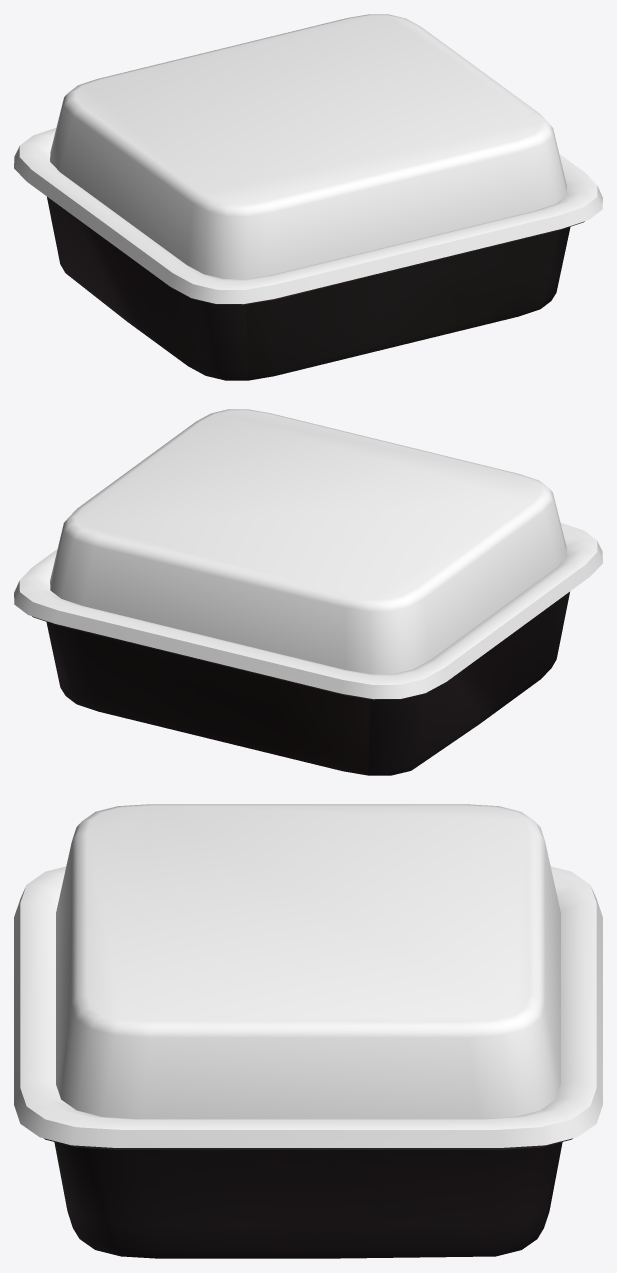
File: SM_bento_box_01.fbx
The picture shows the model from 3 angles, top to bottom: view 1: azimuth 30°, elevation 25°; view 2: azimuth 150°, elevation 25°; view 3: azimuth 270°, elevation 25°; orthographic projection. The views are drawn at different scales.
Parts seen in each view (by area): view 1: Box072; view 2: Box072; view 3: Box072.
Boxes of the visible parts, x1,y1,x2,y2 form: Box072: [14, 14, 602, 380]; Box072: [14, 409, 602, 775]; Box072: [14, 804, 602, 1258].
Bounding box in the file's own units: 25.88 × 10.32 × 23.55.
